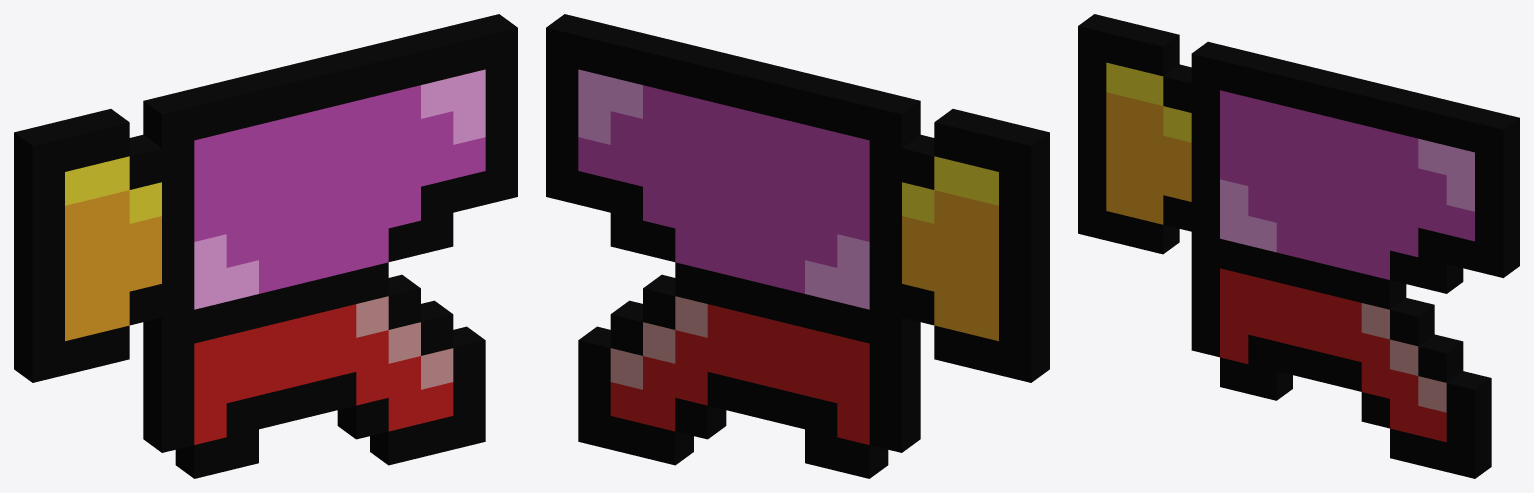
File: Magenta Heavy Paintball Gun.glb
3 views of the same model, side by side, from view 1: azimuth 30°, elevation 25°; view 2: azimuth 150°, elevation 25°; view 3: azimuth 330°, elevation 25° (orthographic). The views are drawn at different scales.
Visible parts, largest first — view 1: generated(Clone); view 2: generated(Clone); view 3: generated(Clone).
Part boxes in pixels (x1,y1,x2,y2): generated(Clone): (14, 14, 517, 478); generated(Clone): (546, 14, 1049, 478); generated(Clone): (1078, 14, 1519, 478).
Size of the model in its own units: 15 by 12 by 0.9998.
1 material, 1 textured.
